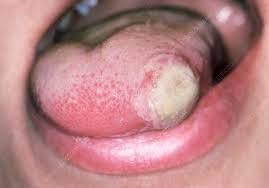Ulcer: (139, 52, 206, 124)
